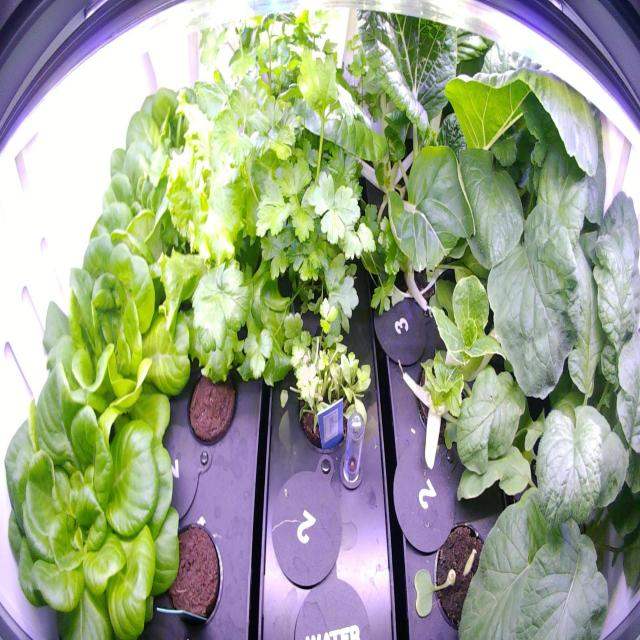Ready: (2, 352, 188, 637), (27, 214, 202, 452), (75, 131, 209, 314), (99, 56, 218, 232)
pod: (155, 501, 227, 631), (180, 343, 242, 452)
